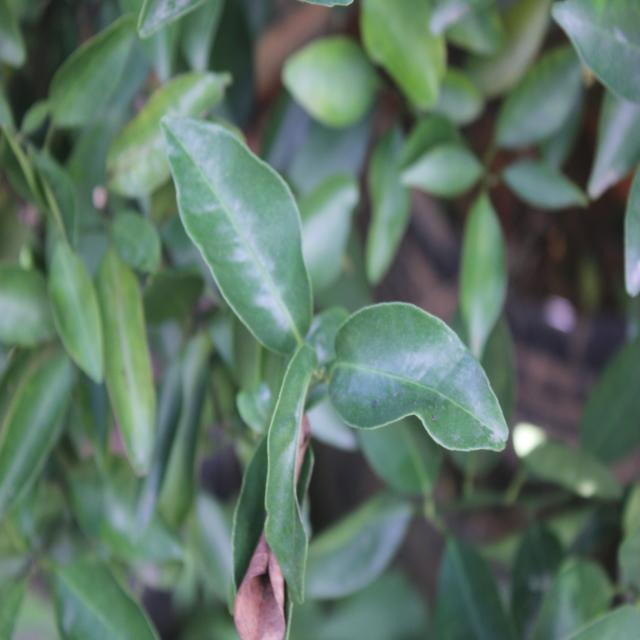healthy: (160, 113, 304, 336), (342, 309, 506, 446)
